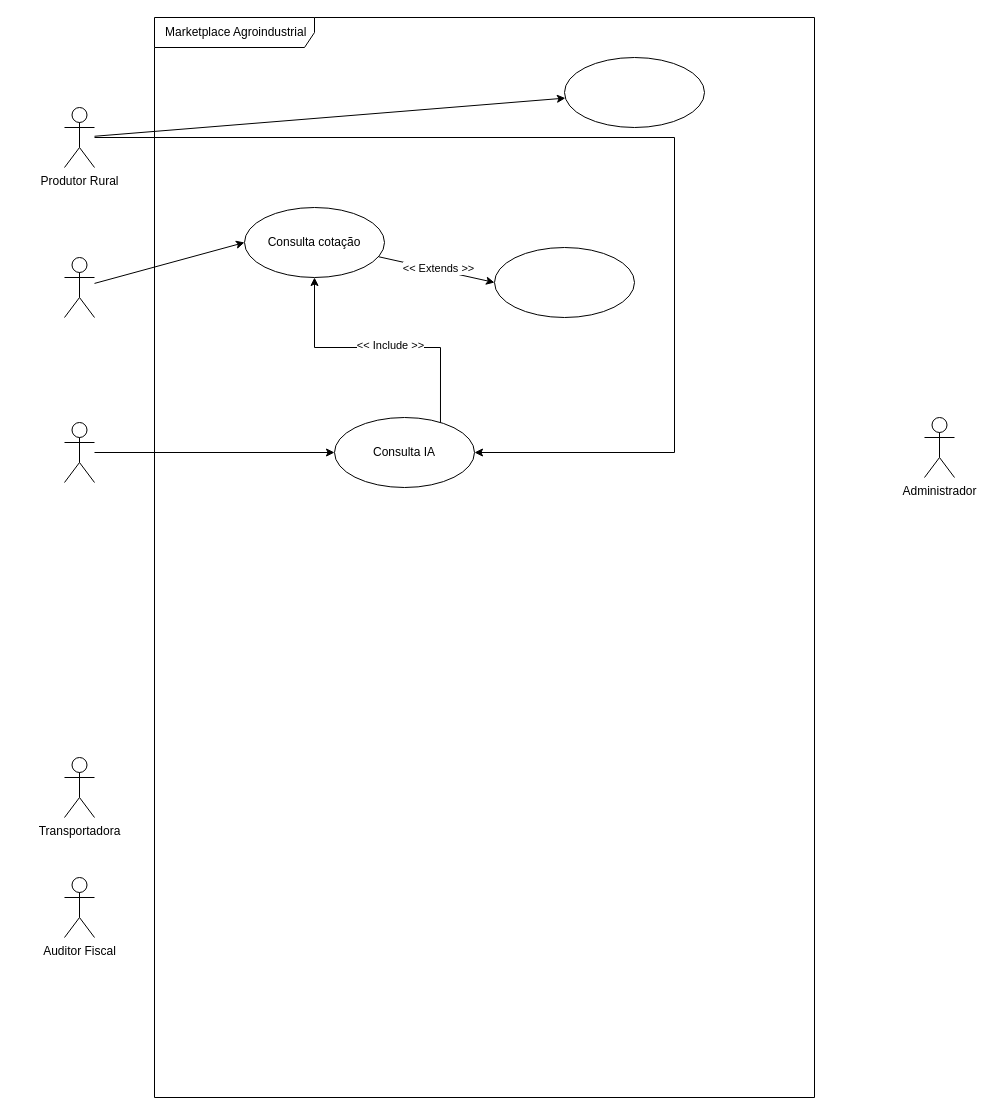
The diagram is 994 pixels wide and 1115 high, and some of its shapes have lost their labels. The centre of each missing label's shape, as x and y in pixels:
Cadastrar produto: the point at 634,92
Comprador Industrial: the point at 79,452
Propõe valores: the point at 564,282
Sistema de IA de Preço: the point at 79,287
